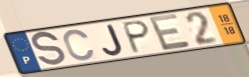2: (185, 11, 221, 47)
C: (62, 28, 96, 62)
E: (146, 12, 193, 53)
J: (101, 23, 125, 57)
P: (121, 19, 152, 55)
S: (31, 30, 67, 69)
